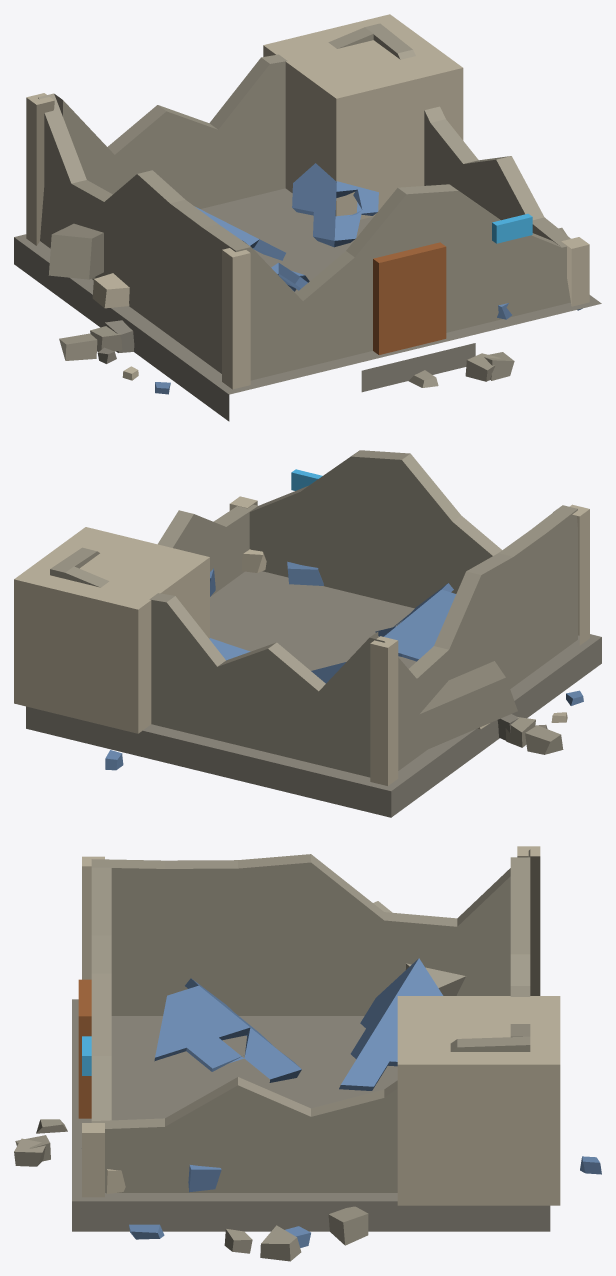
Rendered from house_t3_v1_dmg2.glb.
3 views of the same model, one above another, from view 1: azimuth 30°, elevation 25°; view 2: azimuth 150°, elevation 25°; view 3: azimuth 270°, elevation 25° (orthographic). The views are drawn at different scales.
Visible parts, largest first — view 1: house_t3_v1_dmg2; view 2: house_t3_v1_dmg2; view 3: house_t3_v1_dmg2.
Part boxes in pixels (left/top/right/bottom): house_t3_v1_dmg2: left=14, top=14, right=601, bottom=421; house_t3_v1_dmg2: left=14, top=450, right=601, bottom=817; house_t3_v1_dmg2: left=14, top=846, right=601, bottom=1261.
Size of the model in its own units: 0.9562 by 0.3238 by 0.8848.
1 material, 1 textured.
